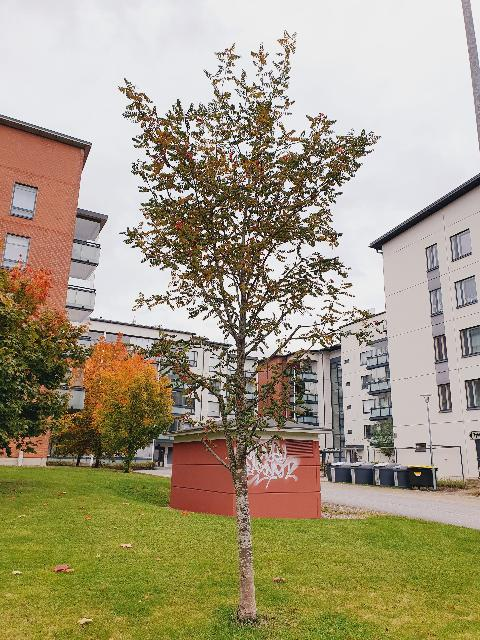rowan: (114, 26, 390, 626)
